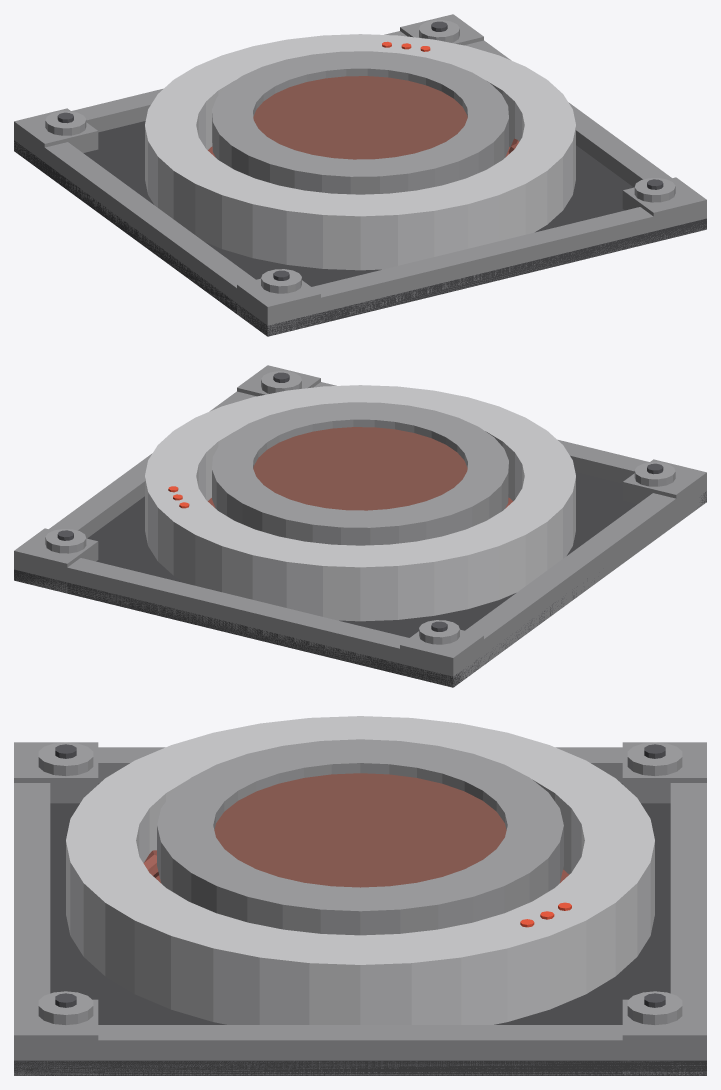
Rendered from vge_gravhulk_engine_cooldown.obj.
3 renders of one model, top to bottom at view 1: azimuth 30°, elevation 25°; view 2: azimuth 150°, elevation 25°; view 3: azimuth 270°, elevation 25°, orthographic. The views are drawn at different scales.
Visible parts, largest first — view 1: vge_gravhulk_engine_cooldown_22, vge_gravhulk_engine_cooldown_23, vge_gravhulk_engine_cooldown_0, vge_gravhulk_engine_cooldown_24, vge_gravhulk_engine_cooldown_1, vge_gravhulk_engine_cooldown_3, vge_gravhulk_engine_cooldown_4, vge_gravhulk_engine_cooldown_2, vge_gravhulk_engine_cooldown_6, vge_gravhulk_engine_cooldown_5, vge_gravhulk_engine_cooldown_7, vge_gravhulk_engine_cooldown_8 (+4 smaller); view 2: vge_gravhulk_engine_cooldown_22, vge_gravhulk_engine_cooldown_23, vge_gravhulk_engine_cooldown_2, vge_gravhulk_engine_cooldown_24, vge_gravhulk_engine_cooldown_0, vge_gravhulk_engine_cooldown_3, vge_gravhulk_engine_cooldown_4, vge_gravhulk_engine_cooldown_1, vge_gravhulk_engine_cooldown_8, vge_gravhulk_engine_cooldown_5, vge_gravhulk_engine_cooldown_6, vge_gravhulk_engine_cooldown_7 (+4 smaller); view 3: vge_gravhulk_engine_cooldown_22, vge_gravhulk_engine_cooldown_23, vge_gravhulk_engine_cooldown_0, vge_gravhulk_engine_cooldown_24, vge_gravhulk_engine_cooldown_4, vge_gravhulk_engine_cooldown_1, vge_gravhulk_engine_cooldown_2, vge_gravhulk_engine_cooldown_7, vge_gravhulk_engine_cooldown_8, vge_gravhulk_engine_cooldown_5, vge_gravhulk_engine_cooldown_6, vge_gravhulk_engine_cooldown_3 (+4 smaller).
Boxes of the visible parts, box(x1,y1,x2,y2) form: vge_gravhulk_engine_cooldown_22: box(145, 34, 575, 270); vge_gravhulk_engine_cooldown_23: box(212, 51, 508, 194); vge_gravhulk_engine_cooldown_0: box(14, 121, 706, 336); vge_gravhulk_engine_cooldown_24: box(253, 76, 467, 159); vge_gravhulk_engine_cooldown_1: box(254, 203, 706, 335); vge_gravhulk_engine_cooldown_3: box(27, 137, 255, 325); vge_gravhulk_engine_cooldown_4: box(464, 40, 671, 187); vge_gravhulk_engine_cooldown_2: box(14, 31, 407, 154); vge_gravhulk_engine_cooldown_6: box(14, 108, 98, 167); vge_gravhulk_engine_cooldown_5: box(237, 278, 320, 335); vge_gravhulk_engine_cooldown_7: box(622, 177, 706, 234); vge_gravhulk_engine_cooldown_8: box(400, 14, 483, 45); vge_gravhulk_engine_cooldown_22: box(145, 385, 575, 621); vge_gravhulk_engine_cooldown_23: box(212, 402, 508, 545); vge_gravhulk_engine_cooldown_2: box(14, 554, 466, 687); vge_gravhulk_engine_cooldown_24: box(253, 427, 467, 510); vge_gravhulk_engine_cooldown_0: box(14, 472, 706, 687); vge_gravhulk_engine_cooldown_3: box(465, 486, 693, 677); vge_gravhulk_engine_cooldown_4: box(49, 391, 256, 538); vge_gravhulk_engine_cooldown_1: box(313, 382, 706, 511); vge_gravhulk_engine_cooldown_8: box(14, 528, 98, 593); vge_gravhulk_engine_cooldown_5: box(622, 459, 706, 524); vge_gravhulk_engine_cooldown_6: box(400, 629, 483, 686); vge_gravhulk_engine_cooldown_7: box(237, 365, 320, 396); vge_gravhulk_engine_cooldown_22: box(66, 716, 654, 1024); vge_gravhulk_engine_cooldown_23: box(157, 739, 563, 935); vge_gravhulk_engine_cooldown_0: box(14, 783, 706, 1075); vge_gravhulk_engine_cooldown_24: box(214, 773, 506, 887); vge_gravhulk_engine_cooldown_4: box(50, 1025, 670, 1075); vge_gravhulk_engine_cooldown_1: box(14, 783, 50, 1075); vge_gravhulk_engine_cooldown_2: box(670, 783, 706, 1075); vge_gravhulk_engine_cooldown_7: box(14, 999, 98, 1075); vge_gravhulk_engine_cooldown_8: box(622, 999, 706, 1075); vge_gravhulk_engine_cooldown_5: box(14, 742, 98, 803); vge_gravhulk_engine_cooldown_6: box(622, 742, 706, 803); vge_gravhulk_engine_cooldown_3: box(98, 747, 622, 783).
Bounding box in the file's own units: 4.94 × 0.82 × 4.94.
